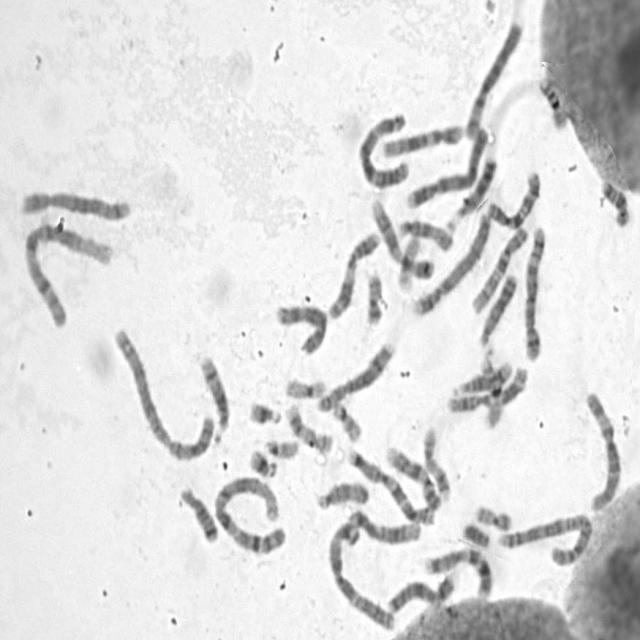A1: (18, 215, 117, 330), (209, 471, 288, 557)
A2: (109, 322, 216, 462), (495, 507, 596, 568)
A3: (325, 514, 397, 632), (354, 108, 412, 189)
B4: (410, 207, 493, 318), (402, 120, 491, 210)
B5: (17, 184, 134, 223), (520, 220, 549, 362)
C10: (467, 220, 532, 316), (484, 165, 544, 230)
C11: (325, 225, 383, 321), (445, 359, 530, 416)
C12: (378, 118, 465, 158), (345, 504, 423, 546)
C6: (461, 15, 526, 141), (581, 386, 624, 514)
C7: (345, 444, 440, 524), (419, 542, 494, 599)
C8: (313, 336, 398, 415), (272, 298, 330, 357)
C9: (368, 193, 438, 280), (383, 441, 443, 512)
D13: (443, 150, 500, 232), (476, 266, 520, 350)
D14: (195, 348, 232, 441), (449, 355, 516, 399)
D15: (394, 212, 456, 254), (313, 475, 372, 511)
E16: (477, 353, 505, 431), (536, 70, 570, 132)
E17: (282, 398, 334, 455), (420, 422, 452, 502)
E18: (176, 480, 220, 544), (597, 174, 632, 228)
F19: (395, 231, 423, 291), (282, 372, 328, 401)
F20: (362, 266, 385, 327), (472, 499, 514, 532)
G21: (245, 395, 284, 427), (246, 443, 279, 479)
G22: (328, 397, 364, 443), (262, 433, 301, 460)
X: (384, 568, 459, 616)
Y: (460, 517, 492, 549)
